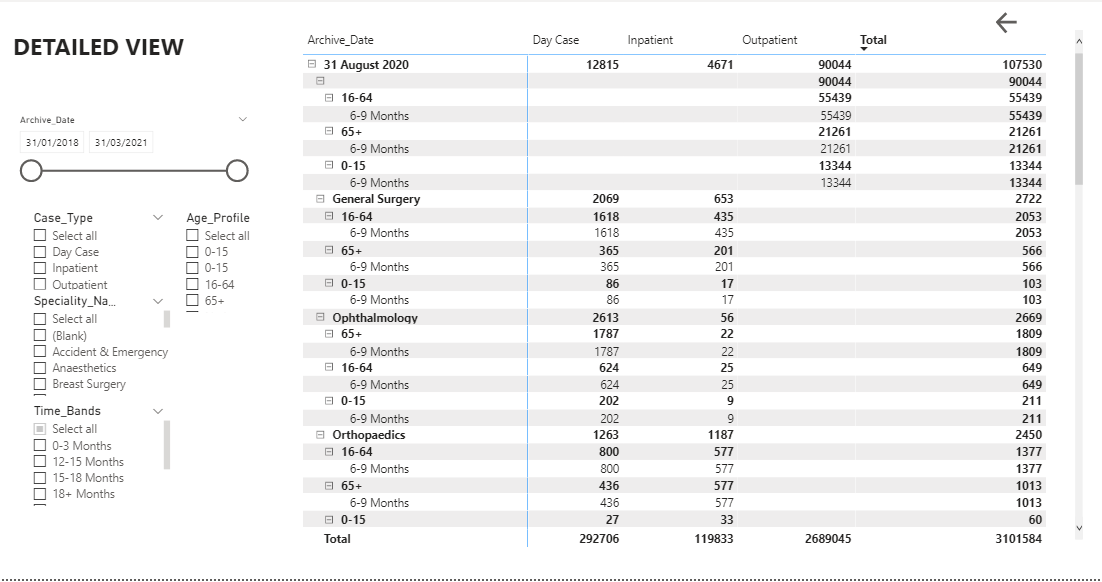

What the dashboard file says about the page in this screenshot:
{"tool":"powerbi","page":{"name":"DETAIL","canvas":[1280,720],"ordinal":1},"visuals":[{"type":"textbox","box":[16,80,224,48],"z":0},{"type":"slicer","fields":{"Values":["All_Data.Archive_Date"]},"box":[16,176,288,112],"z":1000},{"type":"slicer","fields":{"Values":["All_Data.Case_Type"]},"box":[32,288,176,128],"z":2000},{"type":"slicer","fields":{"Values":["All_Data.Speciality_Name"]},"box":[32,384,176,128],"z":3000},{"type":"slicer","fields":{"Values":["All_Data.Age_Profile"]},"box":[208,288,176,128],"z":4000},{"type":"slicer","fields":{"Values":["All_Data.Time_Bands"]},"box":[32,512,176,128],"z":5000},{"type":"pivotTable","fields":{"Rows":["All_Data.Archive_Date","All_Data.Specialty_Name","All_Data.Age_Profile","All_Data.Time_Bands"],"Columns":["All_Data.Case_Type"],"Values":["Sum(All_Data.Total)"]},"box":[352,80,912,608],"z":6000},{"type":"actionButton","box":[1154.2,59.3,40.5,33.3],"z":7000}]}

Visuals, with their boxes on the page's 1280x720 design canvas (x1, y1, x2, y2). These are canvas units, not pixel positions in the 1102x582 screenshot, which may show the page scaled, cropped or inside an application window:
textbox: box=[16, 80, 240, 128]
slicer - All_Data.Archive_Date: box=[16, 176, 304, 288]
slicer - All_Data.Case_Type: box=[32, 288, 208, 416]
slicer - All_Data.Speciality_Name: box=[32, 384, 208, 512]
slicer - All_Data.Age_Profile: box=[208, 288, 384, 416]
slicer - All_Data.Time_Bands: box=[32, 512, 208, 640]
pivotTable - All_Data.Archive_Date x All_Data.Specialty_Name: box=[352, 80, 1264, 688]
actionButton: box=[1154, 59, 1195, 93]
